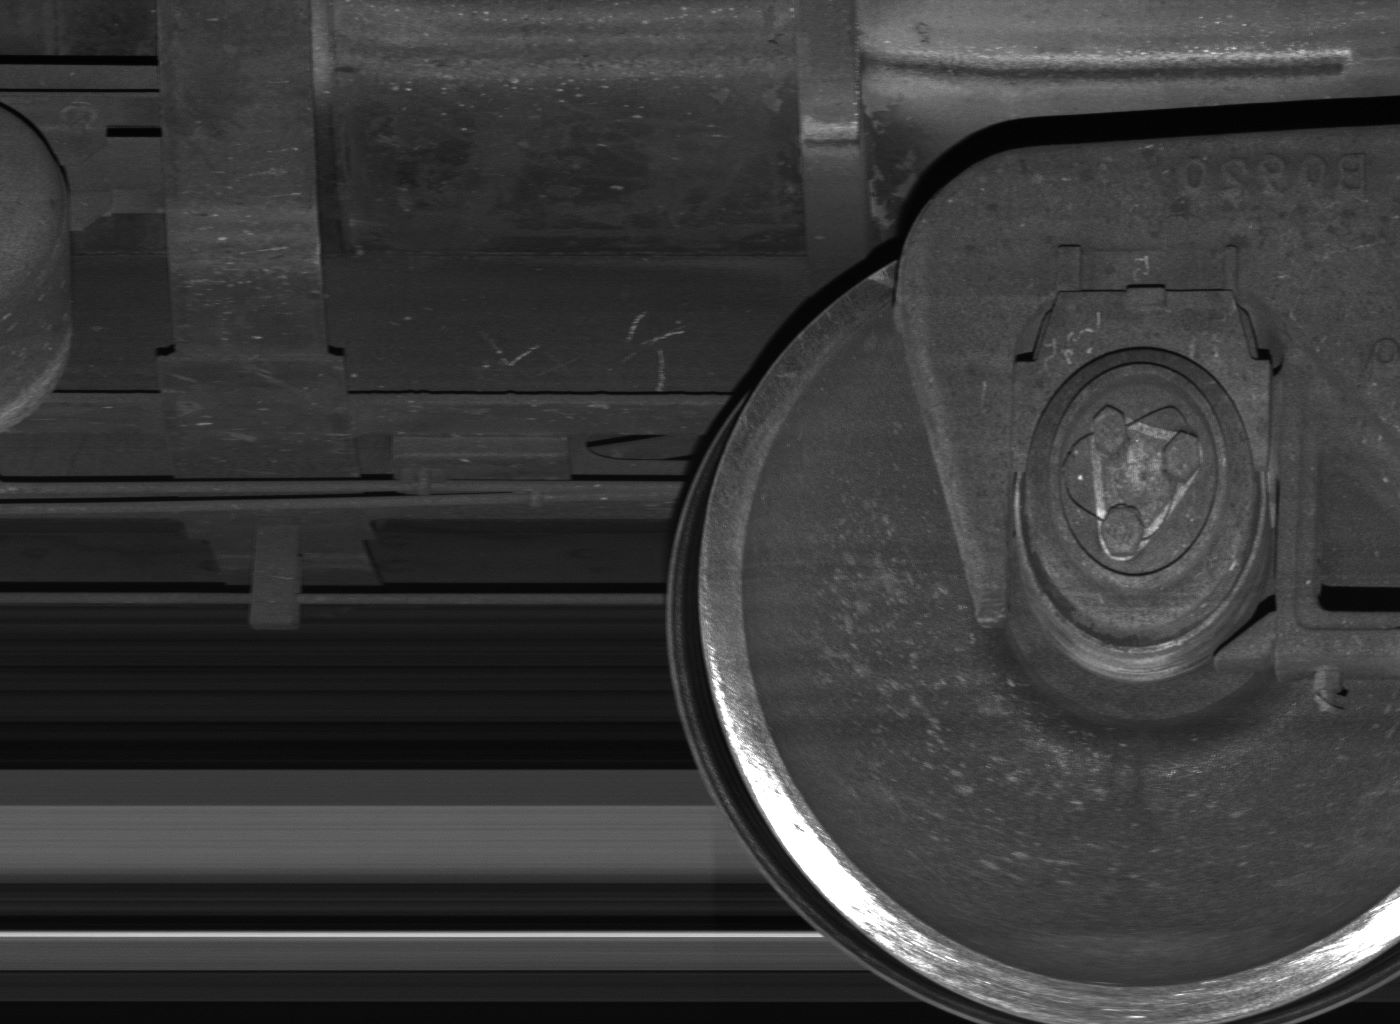normal: (249, 522, 300, 632)
